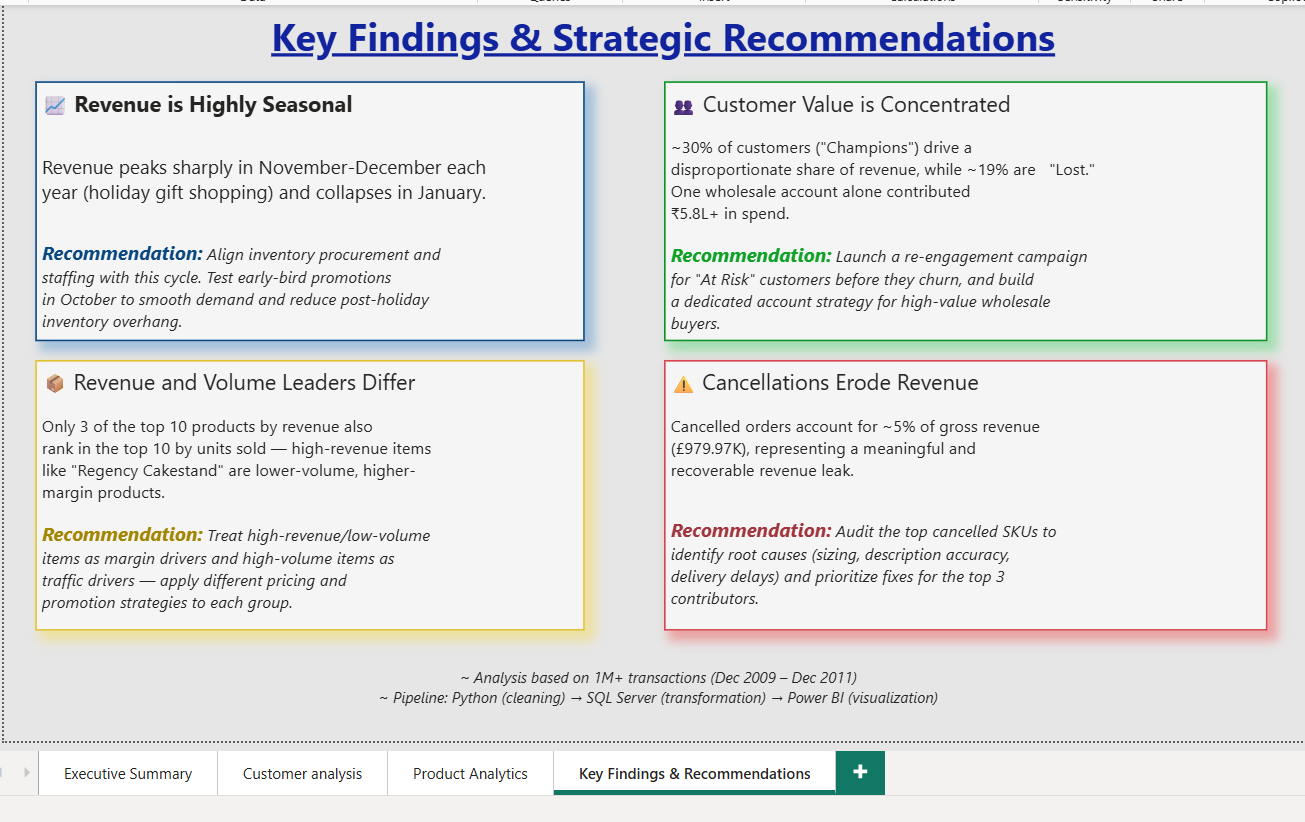

The dashboard page shown, as its layout file describes it:
{"tool":"powerbi","page":{"name":"Key Findings & Recommendations","canvas":[1280,720],"ordinal":3},"visuals":[{"type":"textbox","box":[10.1,0,1270.1,84.9],"z":0},{"type":"textbox","box":[30.4,74.8,537.5,254.8],"z":1000},{"type":"textbox","box":[645.2,74.8,590.7,254.8],"z":2000},{"type":"textbox","box":[30.4,347.3,537.5,264.9],"z":3000},{"type":"textbox","box":[645.2,347.3,590.7,264.9],"z":4000},{"type":"textbox","box":[0,624.9,1280.3,95.1],"z":5000}]}

Visuals, with their boxes on the page's 1280x720 design canvas (x1, y1, x2, y2). These are canvas units, not pixel positions in the 1305x822 screenshot, which may show the page scaled, cropped or inside an application window:
textbox: x1=10 y1=0 x2=1280 y2=85
textbox: x1=30 y1=75 x2=568 y2=330
textbox: x1=645 y1=75 x2=1236 y2=330
textbox: x1=30 y1=347 x2=568 y2=612
textbox: x1=645 y1=347 x2=1236 y2=612
textbox: x1=0 y1=625 x2=1280 y2=720
